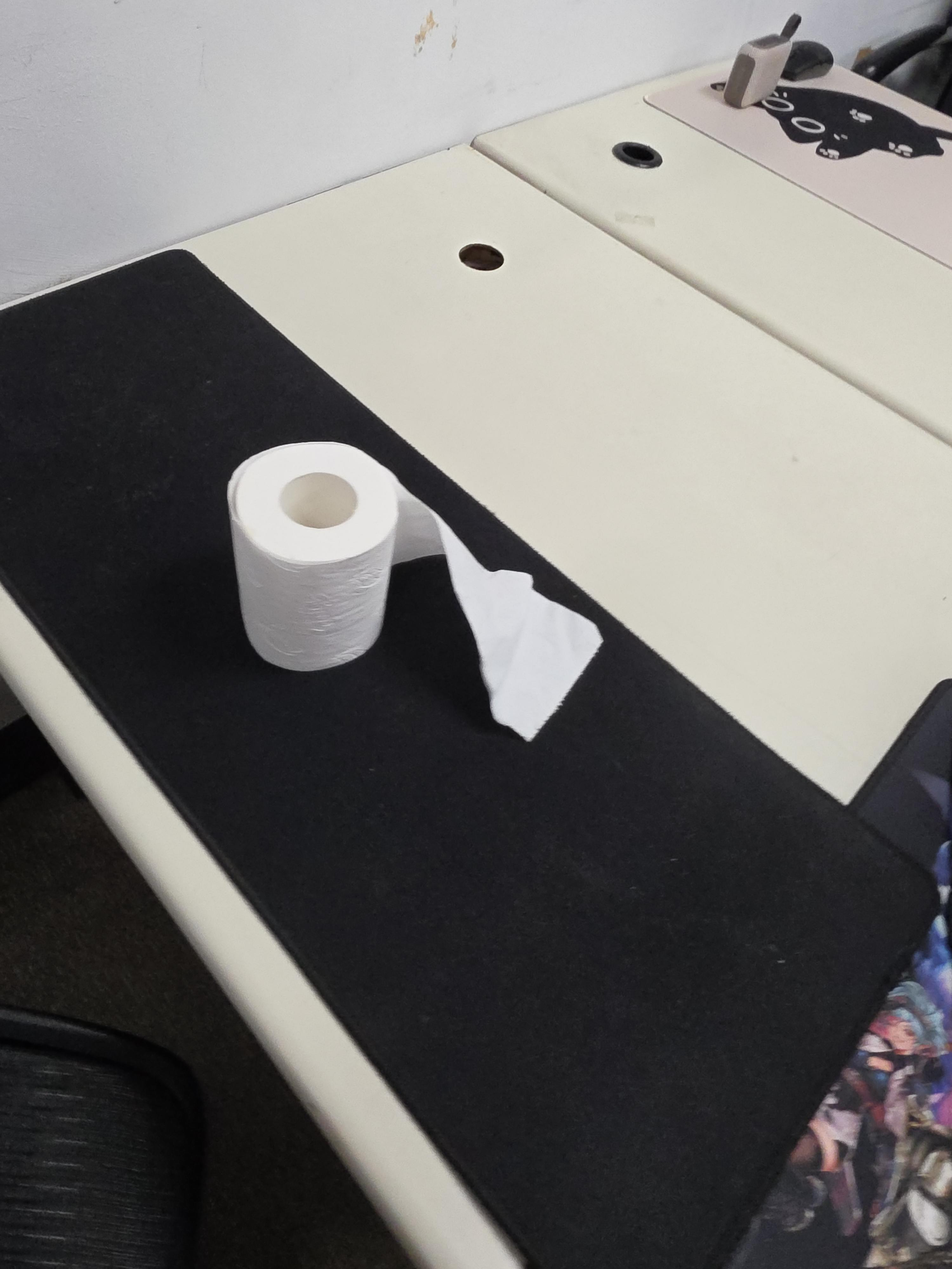tissue: (227, 441, 603, 742)
